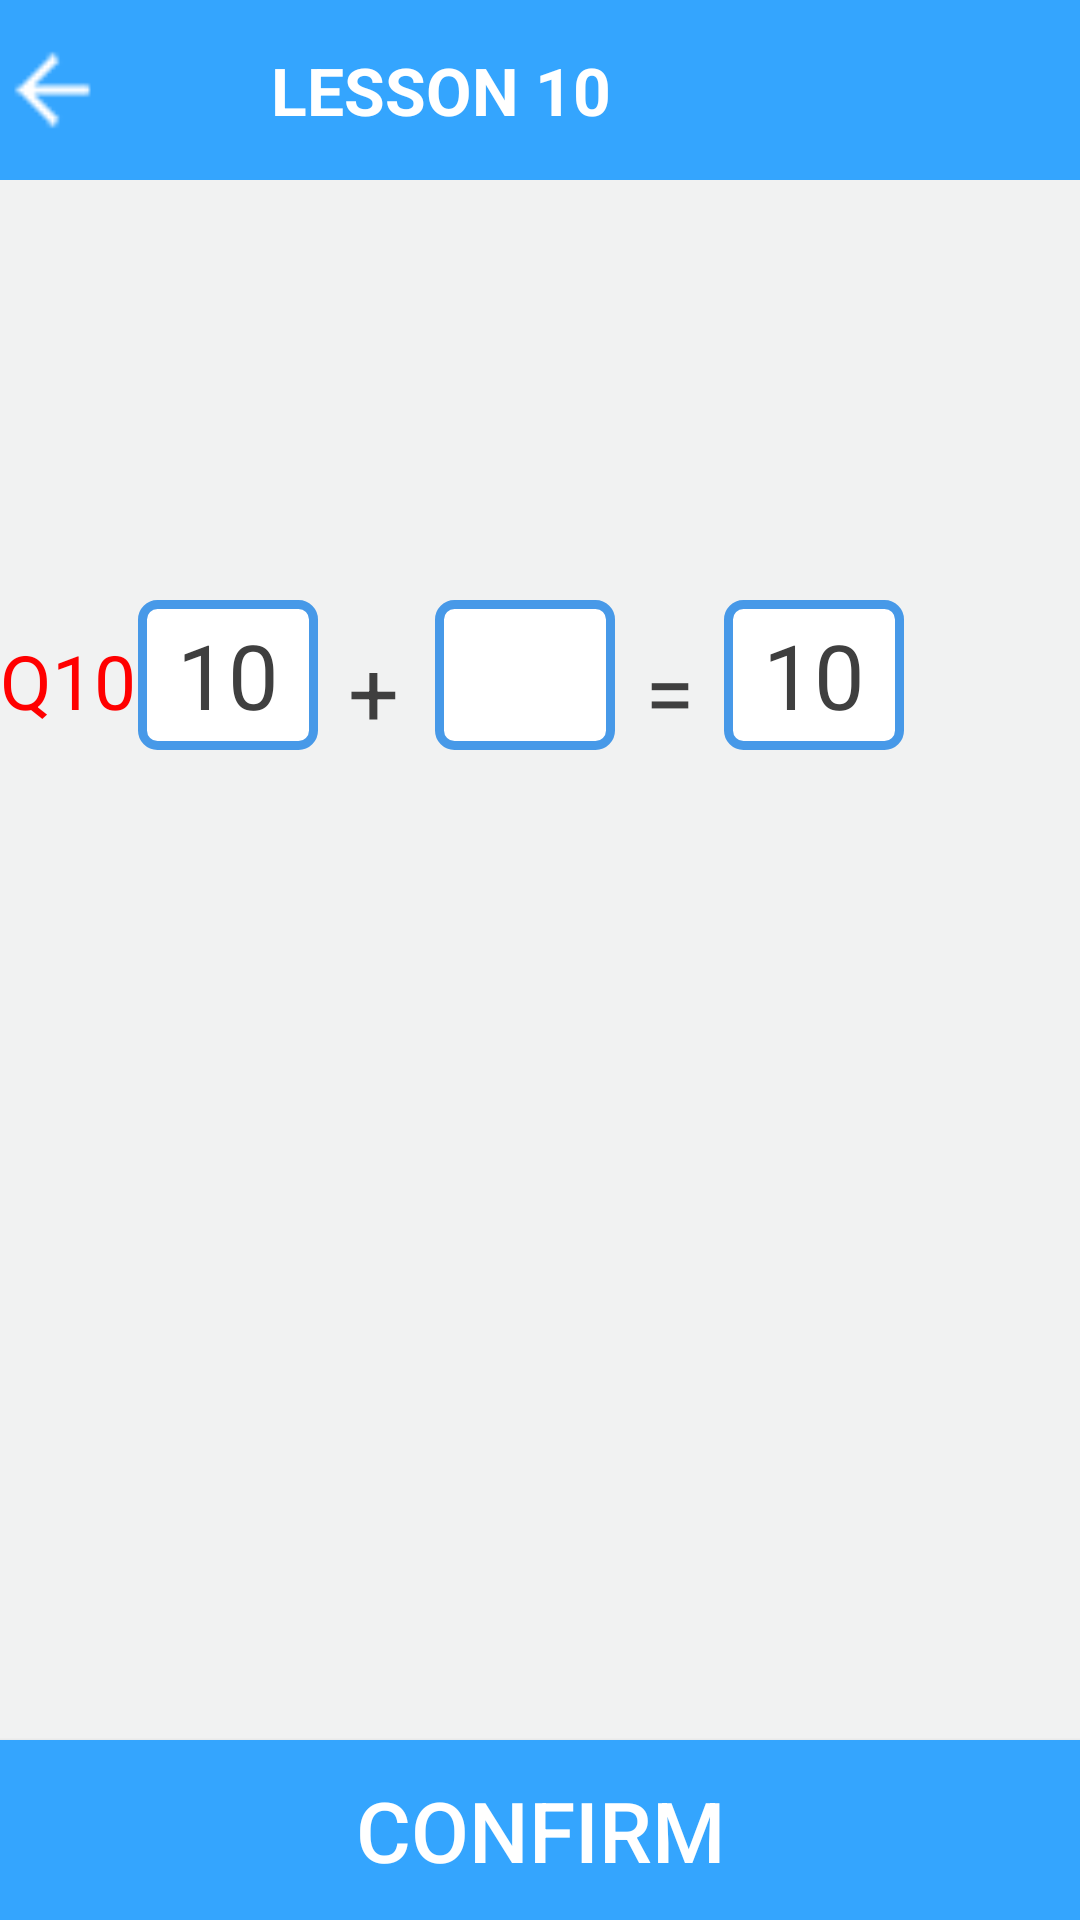

Where to tap for icons on this 1080px x 1920px app screen, as [x,y]:
keyboard backspace: [53,90]
